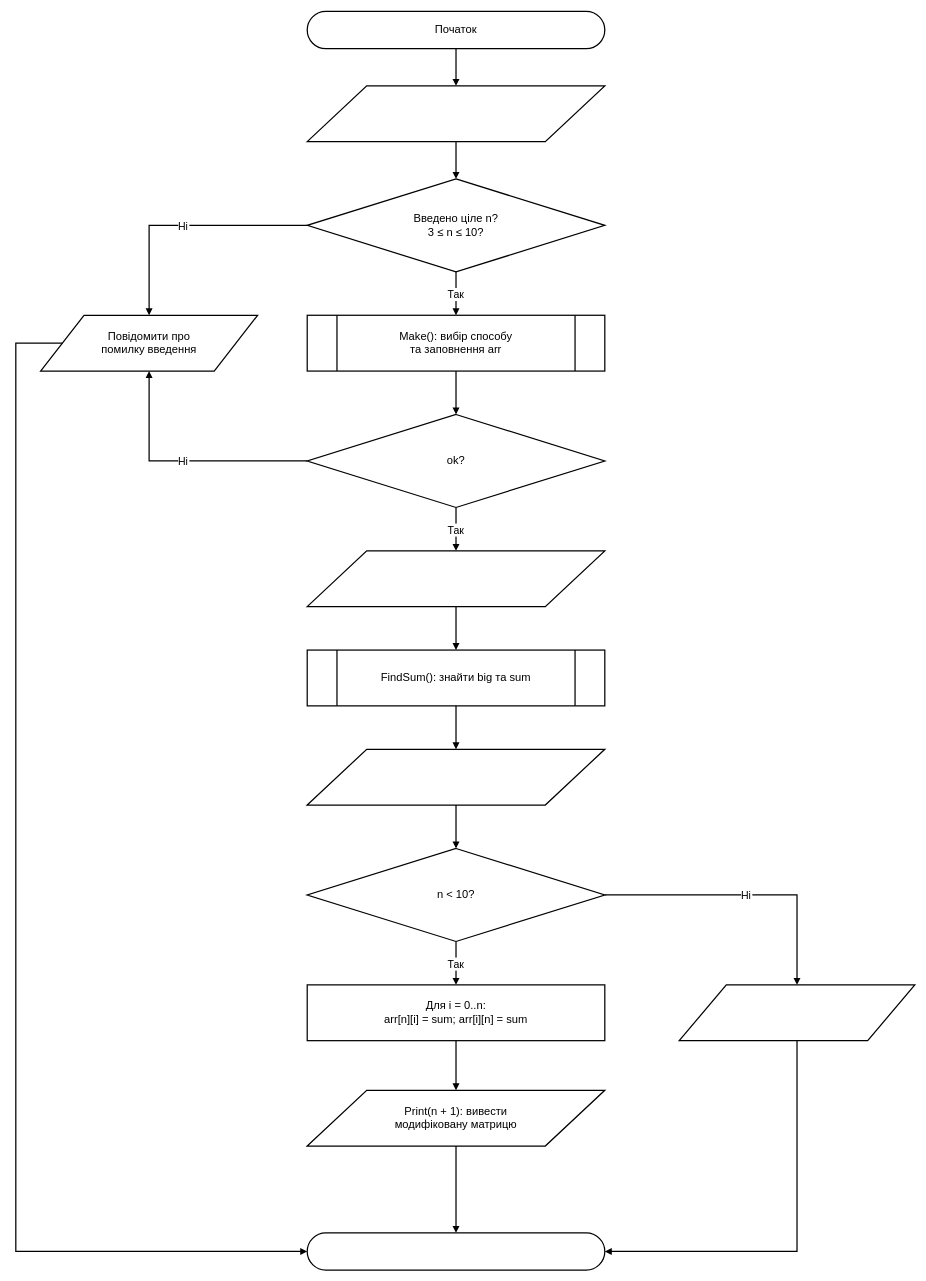
Some shapes in this 926 by 1281 pixel diagram are drawn without their labels. The centre of each missing label's shape, as x and y in pixels:
Ввести n: the point at 455,113
Вивести big та sum: the point at 455,776
Вивести вхідну матрицю: the point at 455,578
Кінець: the point at 455,1251
Повідомити про вихід за межі матриці: the point at 796,1012
